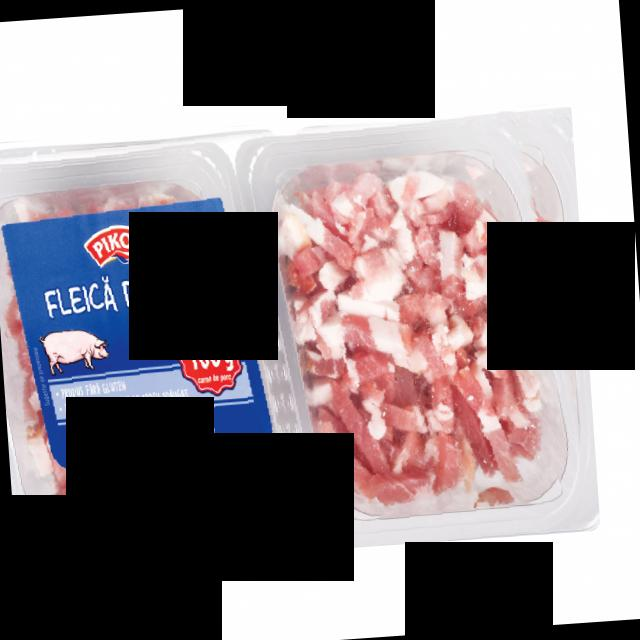bacon: (0, 103, 600, 571)
